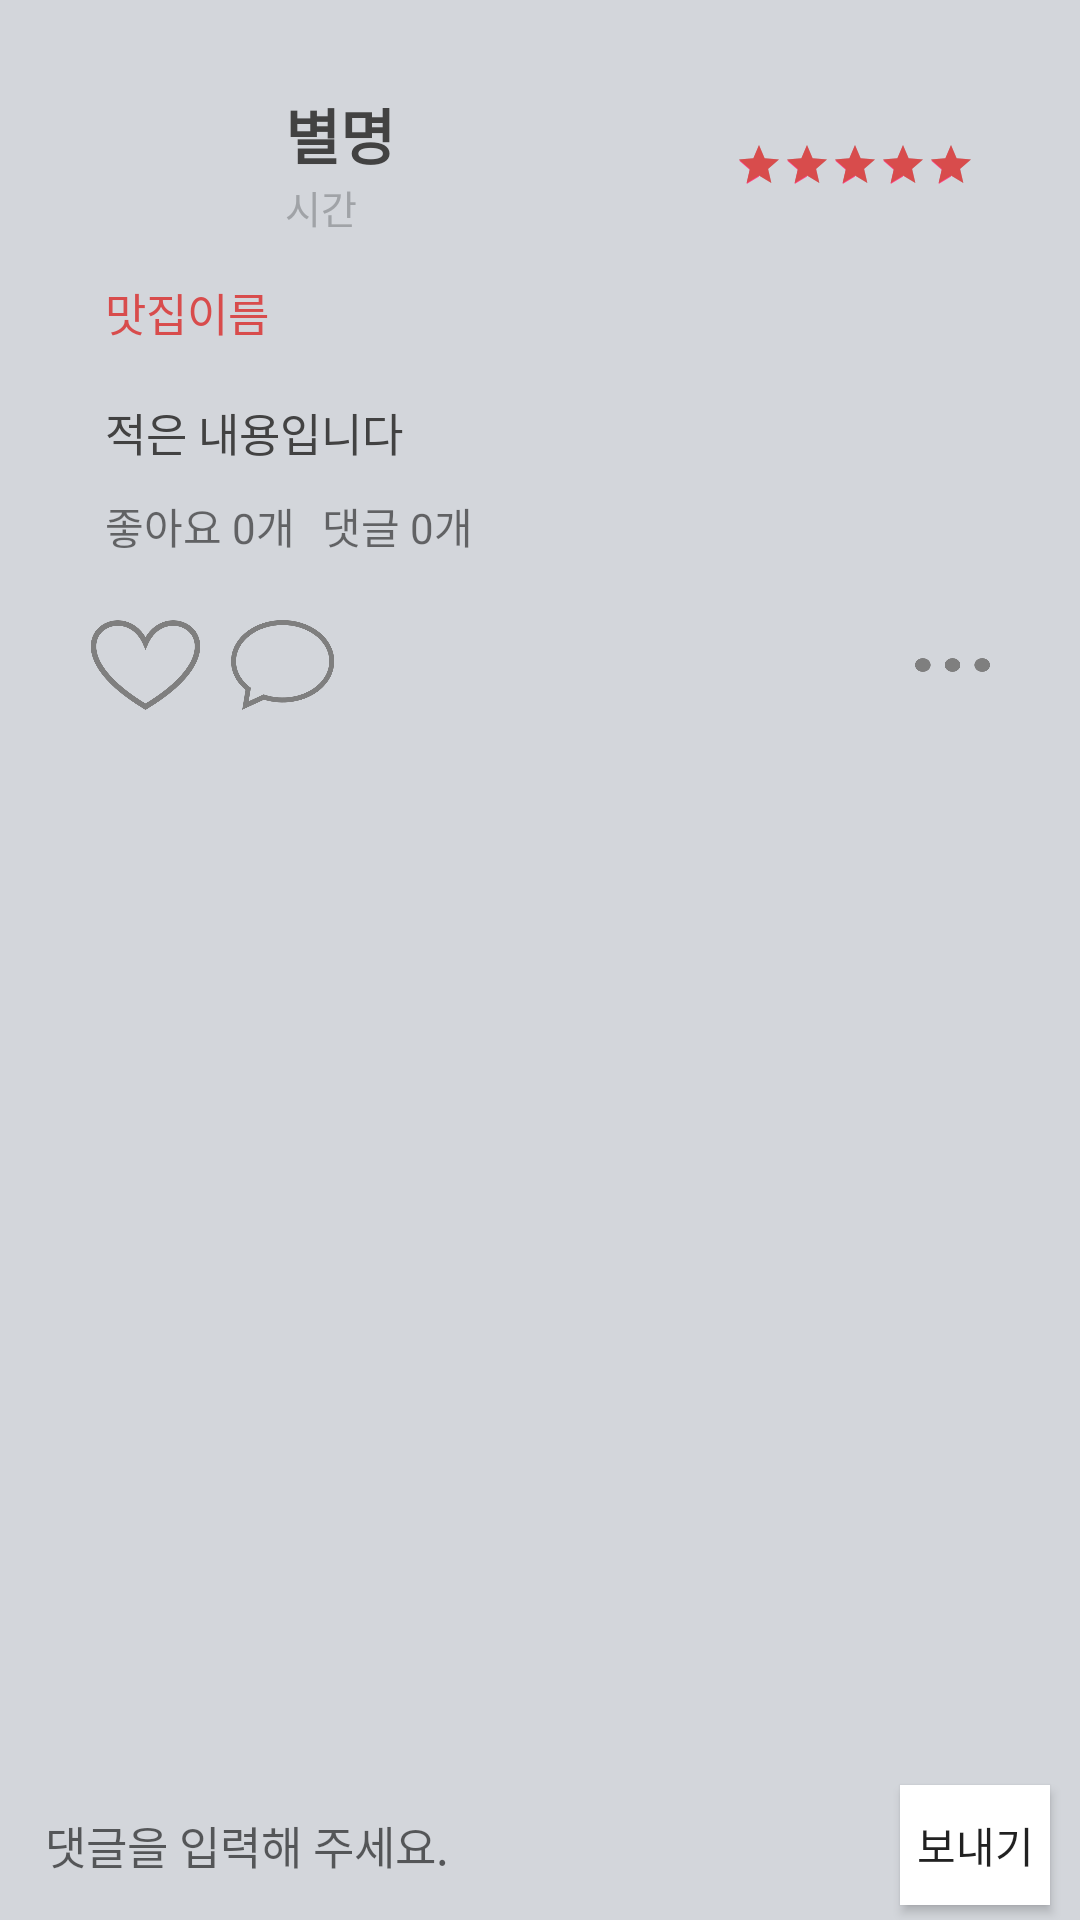

Screen size 1080×1920. Icon name, then its center in pixels as (x,y):
nullheart: (145,665)
nulltalk: (282,665)
